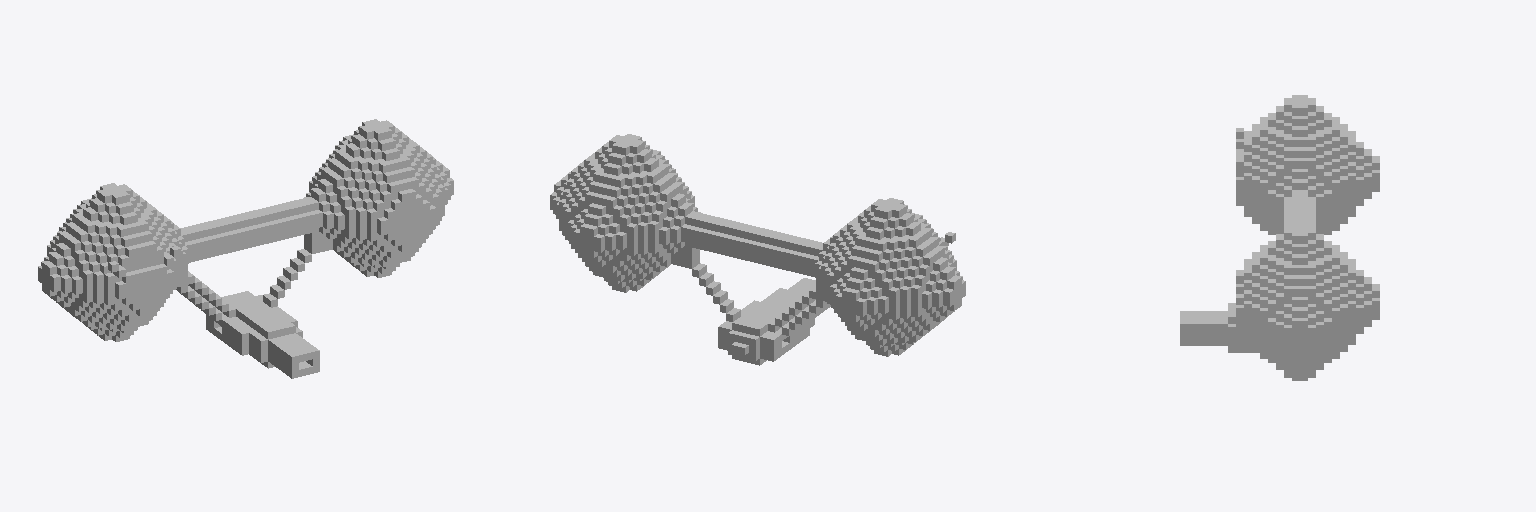
File: Retro Enemy 2.obj
3 renders of one model, left to right at view 1: azimuth 30°, elevation 25°; view 2: azimuth 150°, elevation 25°; view 3: azimuth 270°, elevation 25°, orthographic.
Visible parts, largest first — view 1: object 1; view 2: object 1; view 3: object 1.
Boxes of the visible parts, x1=… form: object 1: x1=38, y1=119, x2=453, y2=378; object 1: x1=550, y1=134, x2=965, y2=365; object 1: x1=1180, y1=95, x2=1379, y2=380.
Bounding box in the file's own units: 5.8 × 2.5 × 2.5.